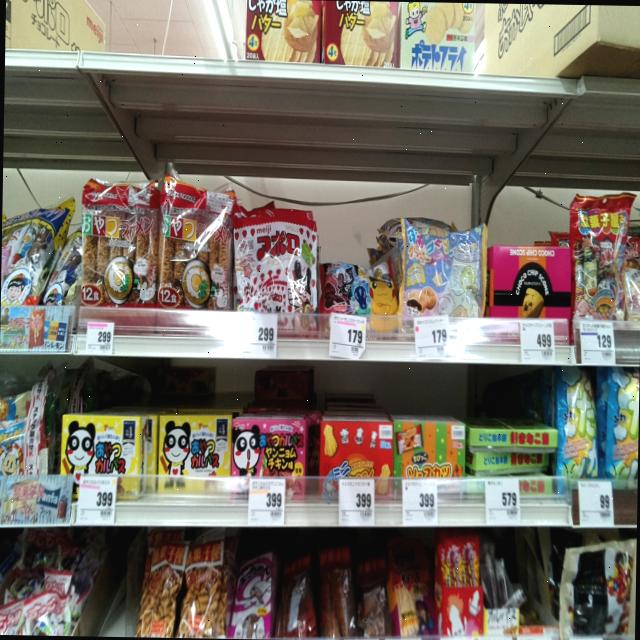objects: (576, 476, 616, 527), (78, 474, 116, 527), (232, 313, 276, 357), (576, 318, 616, 366), (482, 476, 520, 526), (328, 312, 368, 359), (248, 476, 284, 528), (519, 316, 556, 364), (401, 478, 438, 526), (412, 314, 451, 358), (339, 477, 375, 524), (82, 320, 114, 355)
